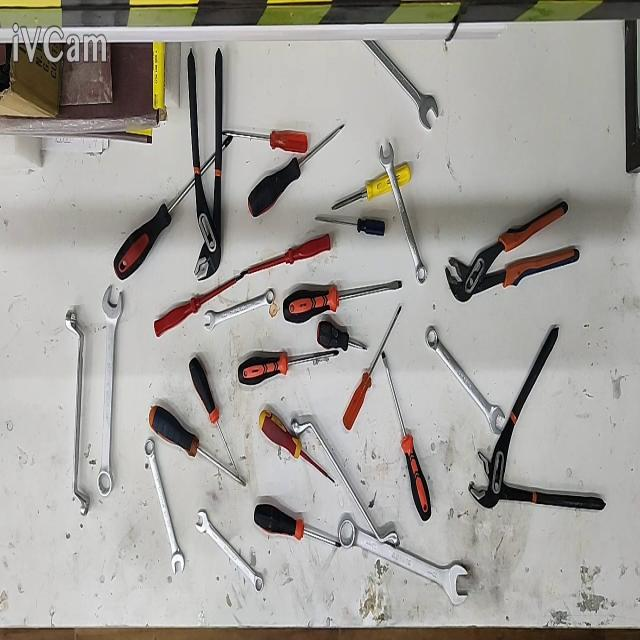Screwdriver: (114, 136, 235, 279), (249, 126, 344, 218), (381, 351, 431, 520), (149, 404, 246, 487), (342, 304, 401, 431), (155, 272, 245, 338), (259, 409, 335, 484), (189, 358, 238, 471), (282, 280, 401, 322), (253, 504, 342, 546), (330, 164, 410, 210), (238, 350, 339, 386), (244, 233, 331, 272), (222, 129, 308, 153), (318, 320, 367, 350), (314, 218, 385, 235)
